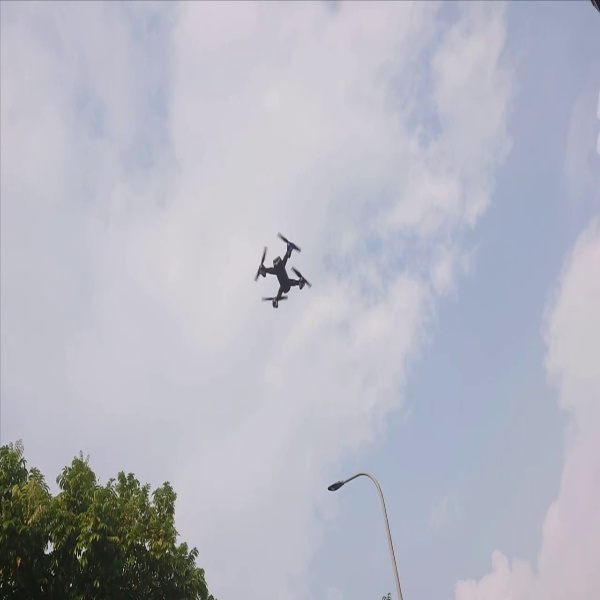drone: (250, 229, 317, 315)
